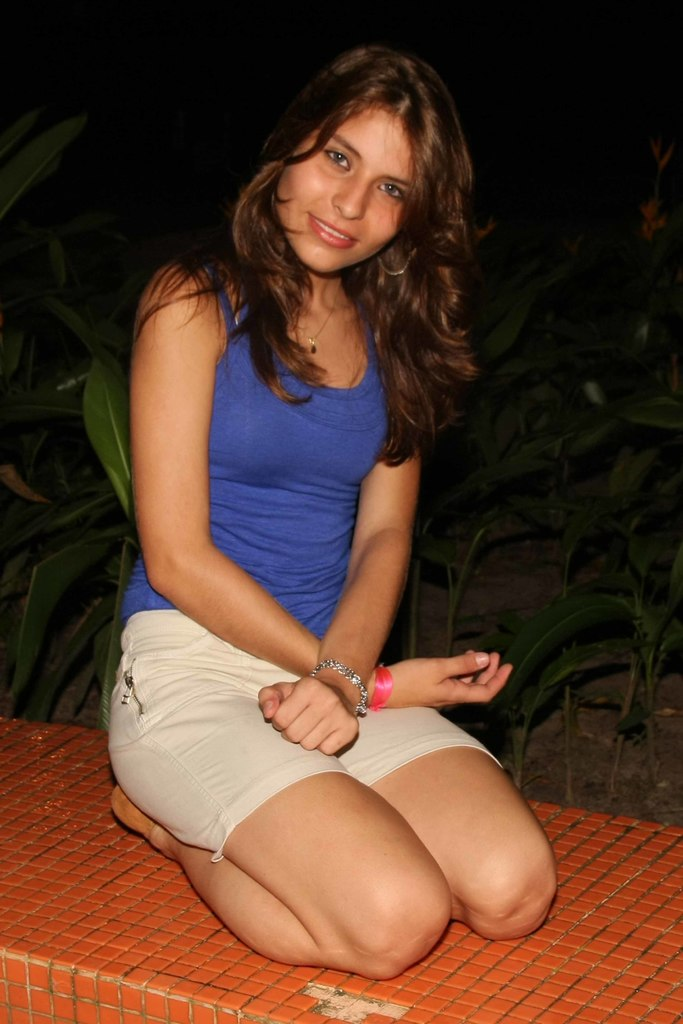Human_hand: (378, 648, 515, 708), (270, 678, 355, 771)
